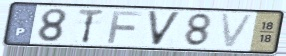8: (36, 7, 69, 44), (182, 12, 214, 48)
F: (106, 9, 146, 45)
T: (76, 8, 106, 45)
V: (145, 9, 184, 48), (219, 12, 258, 50)
